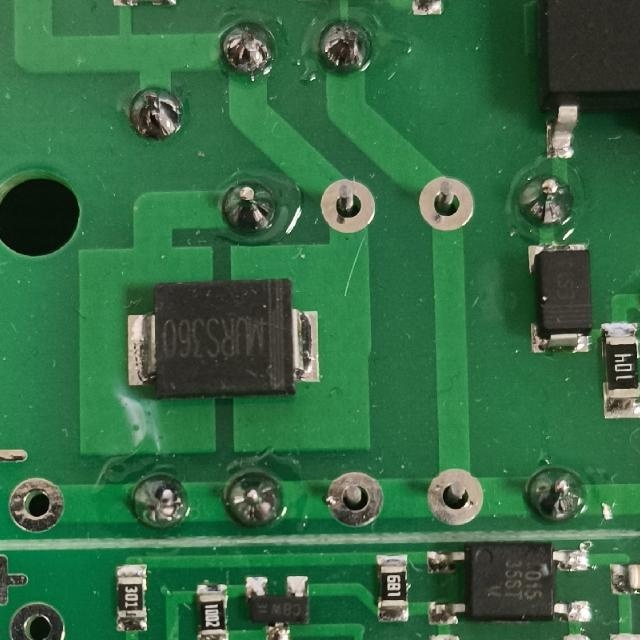chip-resistor: (598, 319, 640, 420), (113, 561, 151, 634), (373, 552, 412, 623), (194, 579, 231, 640)
diode: (122, 277, 324, 399), (523, 238, 596, 354)
ic: (534, 0, 640, 159), (424, 538, 599, 623)
transistor: (243, 572, 316, 640)
